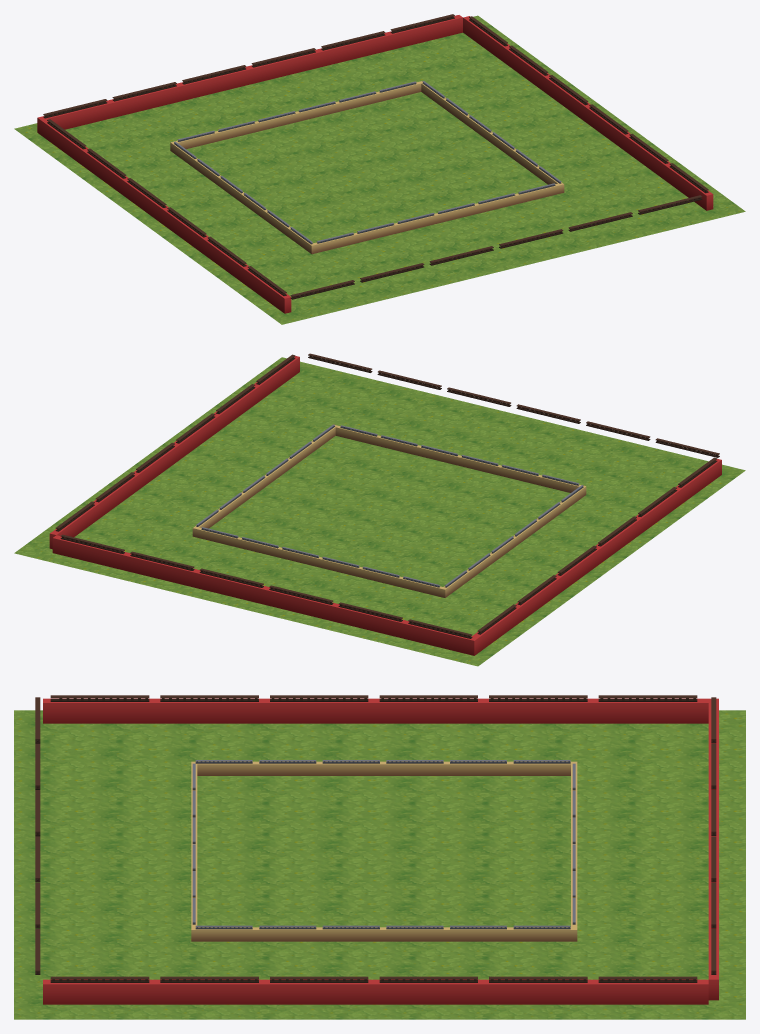
Rendered from russian t.fbx.
The picture shows the model from 3 angles, top to bottom: view 1: azimuth 30°, elevation 25°; view 2: azimuth 150°, elevation 25°; view 3: azimuth 270°, elevation 25°; orthographic projection. The views are drawn at different scales.
Visible parts, largest first — view 1: polySurface9721, polySurface11637, polySurface11636, polySurface11539, polySurface11442, polySurface11235, polySurface11237, polySurface11236, polySurface11234; view 2: polySurface9721, polySurface11637, polySurface11636, polySurface11539, polySurface11442, polySurface11237, polySurface11235, polySurface11236, polySurface11234; view 3: polySurface9721, polySurface11539, polySurface11442, polySurface11637, polySurface11234, polySurface11236, polySurface11636, polySurface11237, polySurface11235.
Part boxes in pixels (left/top/right/bottom): polySurface9721: left=14, top=15, right=745, bottom=324; polySurface11637: left=43, top=14, right=708, bottom=299; polySurface11636: left=37, top=15, right=462, bottom=135; polySurface11539: left=41, top=119, right=291, bottom=313; polySurface11442: left=463, top=16, right=713, bottom=210; polySurface11235: left=314, top=183, right=560, bottom=253; polySurface11237: left=174, top=81, right=421, bottom=149; polySurface11236: left=170, top=141, right=315, bottom=254; polySurface11234: left=419, top=81, right=564, bottom=193; polySurface9721: left=14, top=357, right=745, bottom=666; polySurface11637: left=55, top=353, right=719, bottom=638; polySurface11636: left=52, top=535, right=478, bottom=655; polySurface11539: left=472, top=459, right=721, bottom=652; polySurface11442: left=49, top=356, right=299, bottom=549; polySurface11237: left=196, top=527, right=443, bottom=596; polySurface11235: left=335, top=425, right=581, bottom=492; polySurface11236: left=441, top=485, right=586, bottom=597; polySurface11234: left=192, top=424, right=337, bottom=537; polySurface9721: left=14, top=710, right=745, bottom=1019; polySurface11539: left=43, top=698, right=708, bottom=723; polySurface11442: left=43, top=979, right=708, bottom=1004; polySurface11637: left=35, top=695, right=716, bottom=982; polySurface11234: left=191, top=925, right=577, bottom=941; polySurface11236: left=191, top=760, right=577, bottom=775; polySurface11636: left=708, top=698, right=718, bottom=1000; polySurface11237: left=571, top=763, right=577, bottom=927; polySurface11235: left=191, top=763, right=197, bottom=927.
Size of the model in its own units: 524 by 20.73 by 524.
